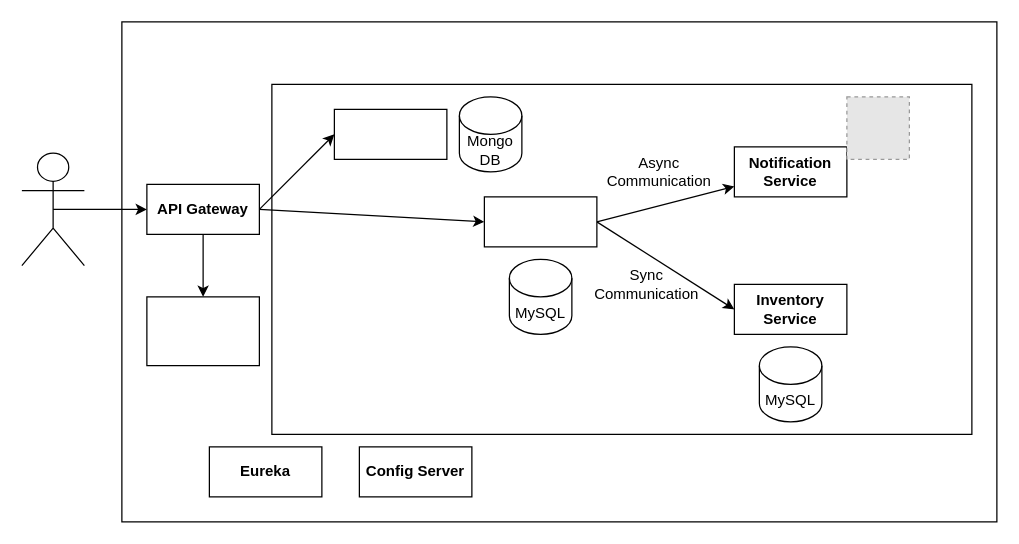
Some shapes in this 1019 by 544 pixel diagram are drawn without their labels. Grey dashed boxes stand in for pictures. Here are the shapes that lost their labels. From the top down, the centre of each, then its label:
At point 390,133: "Product Service".
At point 52,209: "Client".
At point 540,221: "Order Service".
At point 202,331: "Auth Server".
